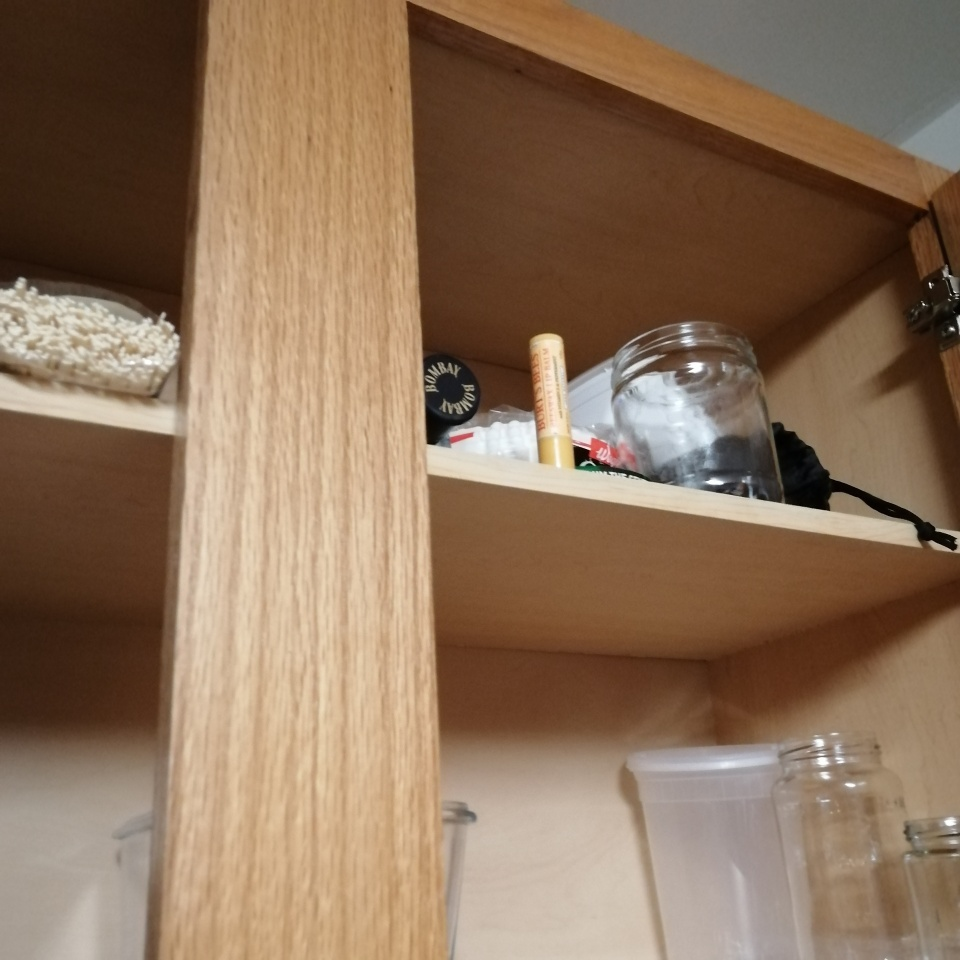chapstick: (529, 333, 576, 469)
